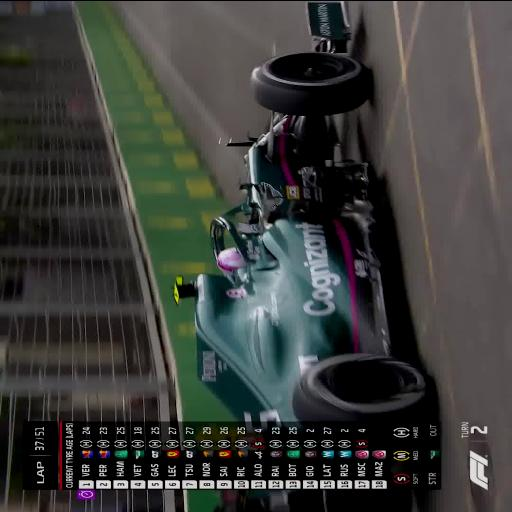f1_car: (175, 2, 432, 423), (252, 499, 303, 512), (318, 500, 324, 511), (314, 497, 317, 501), (233, 502, 236, 506), (311, 490, 314, 493), (302, 497, 303, 500), (288, 490, 289, 491), (254, 501, 255, 501)
